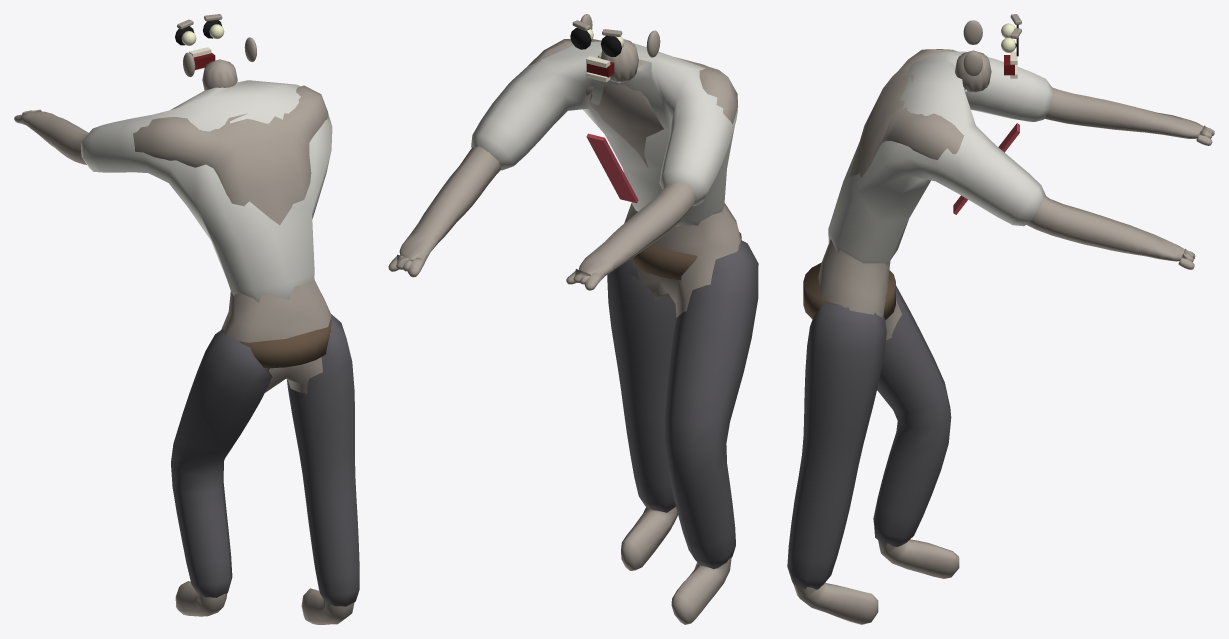
The model's file is zombie_office.glb.
3 renders of one model, left to right at view 1: azimuth 30°, elevation 25°; view 2: azimuth 150°, elevation 25°; view 3: azimuth 270°, elevation 25°, orthographic. The views are drawn at different scales.
Parts seen in each view (by area): view 1: pants, body, shirt, belt, head; view 2: pants, body, shirt, belt, head, tie; view 3: pants, body, shirt, head, belt.
Boxes of the visible parts, left/top/right/bottom form: pants: left=171, top=314, right=359, bottom=606; body: left=14, top=85, right=354, bottom=624; shirt: left=80, top=80, right=332, bottom=302; belt: left=239, top=319, right=331, bottom=368; head: left=183, top=37, right=256, bottom=90; pants: left=607, top=240, right=758, bottom=569; body: left=388, top=38, right=740, bottom=624; shirt: left=471, top=41, right=737, bottom=226; belt: left=632, top=232, right=741, bottom=280; head: left=580, top=14, right=660, bottom=83; tie: left=586, top=133, right=638, bottom=203; pants: left=787, top=286, right=951, bottom=589; body: left=793, top=49, right=1214, bottom=624; shirt: left=828, top=51, right=1053, bottom=265; head: left=955, top=20, right=991, bottom=93; belt: left=803, top=262, right=895, bottom=319.
Size of the model in its own units: 0.7024 by 1.73 by 1.15.
